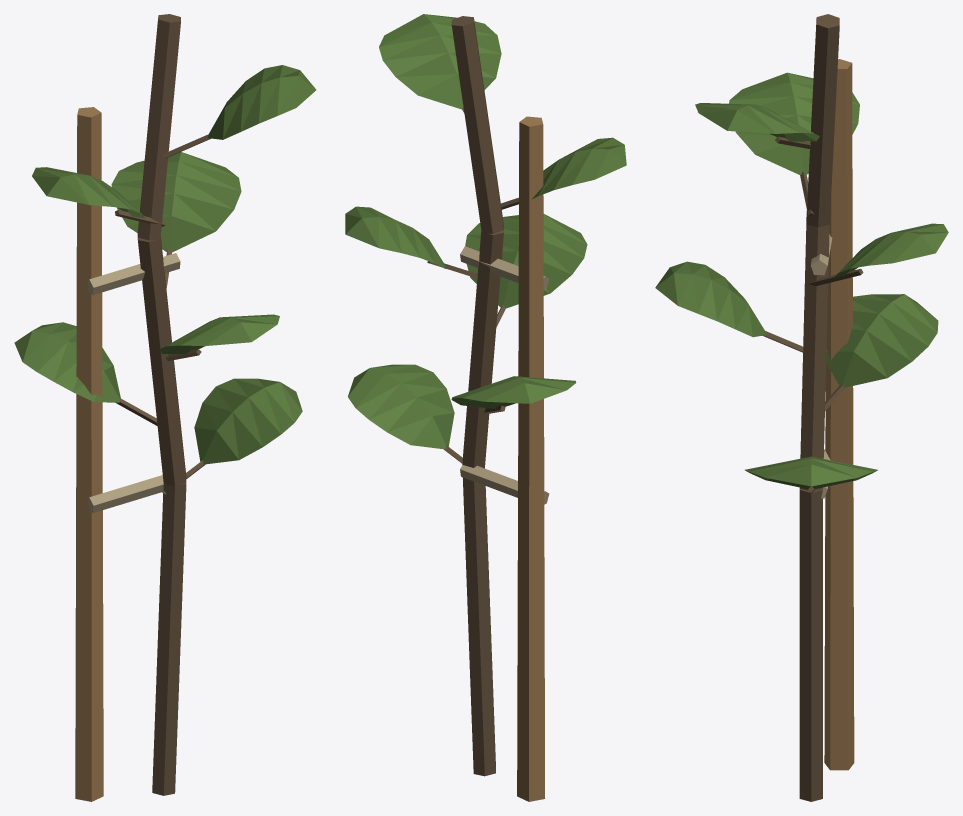
Rendered from fruit_sapling.glb.
3 views of the same model, side by side, from view 1: azimuth 30°, elevation 25°; view 2: azimuth 150°, elevation 25°; view 3: azimuth 270°, elevation 25° (orthographic). The views are drawn at different scales.
Visible parts, largest first — view 1: sapling; view 2: sapling; view 3: sapling.
Boxes of the visible parts, x1=… form: sapling: x1=14, y1=14, x2=316, y2=801; sapling: x1=345, y1=14, x2=626, y2=801; sapling: x1=655, y1=14, x2=948, y2=801.
Size of the model in its own units: 0.2879 by 0.8 by 0.2717.
